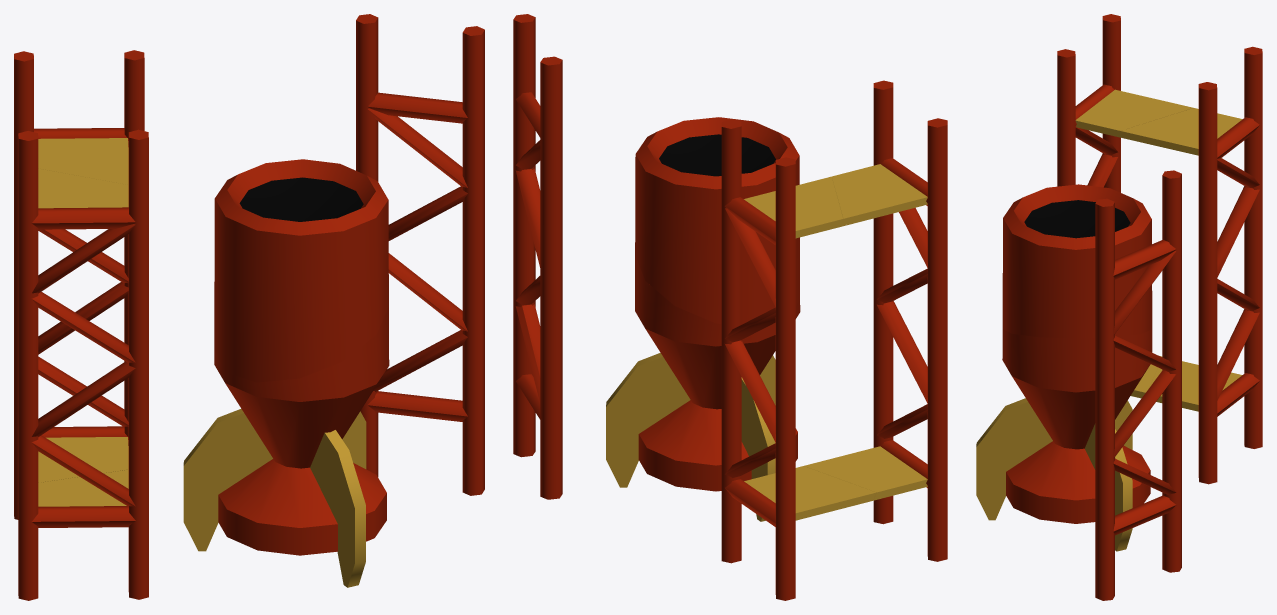
Rendered from Rocket Factory Inside Fractured.fbx.
3 views of the same model, side by side, from view 1: azimuth 30°, elevation 25°; view 2: azimuth 150°, elevation 25°; view 3: azimuth 270°, elevation 25° (orthographic). The views are drawn at different scales.
Visible parts, largest first — view 1: Rocket Factory Inside Fracture.004, Rocket Factory Inside Fracture, Rocket Factory Inside Fracture.001, Rocket Factory Inside Fracture.002, Rocket Factory Inside Fracture.003; view 2: Rocket Factory Inside Fracture.003, Rocket Factory Inside Fracture.004, Rocket Factory Inside Fracture.001, Rocket Factory Inside Fracture.002, Rocket Factory Inside Fracture; view 3: Rocket Factory Inside Fracture.003, Rocket Factory Inside Fracture.001, Rocket Factory Inside Fracture.002, Rocket Factory Inside Fracture, Rocket Factory Inside Fracture.004.
Boxes of the visible parts, x1,y1,x2,y2 form: Rocket Factory Inside Fracture.004: [18, 129, 148, 600]; Rocket Factory Inside Fracture: [214, 159, 388, 382]; Rocket Factory Inside Fracture.001: [183, 307, 389, 587]; Rocket Factory Inside Fracture.002: [356, 14, 484, 495]; Rocket Factory Inside Fracture.003: [14, 50, 144, 519]; Rocket Factory Inside Fracture.003: [721, 119, 876, 600]; Rocket Factory Inside Fracture.004: [804, 80, 947, 561]; Rocket Factory Inside Fracture.001: [606, 255, 800, 521]; Rocket Factory Inside Fracture.002: [513, 14, 562, 499]; Rocket Factory Inside Fracture: [635, 117, 799, 324]; Rocket Factory Inside Fracture.003: [1118, 46, 1262, 484]; Rocket Factory Inside Fracture.001: [976, 329, 1152, 551]; Rocket Factory Inside Fracture.002: [1095, 170, 1181, 600]; Rocket Factory Inside Fracture: [1002, 184, 1152, 338]; Rocket Factory Inside Fracture.004: [1057, 14, 1193, 398].
Bounding box in the file's own units: 525 × 500 × 329.
